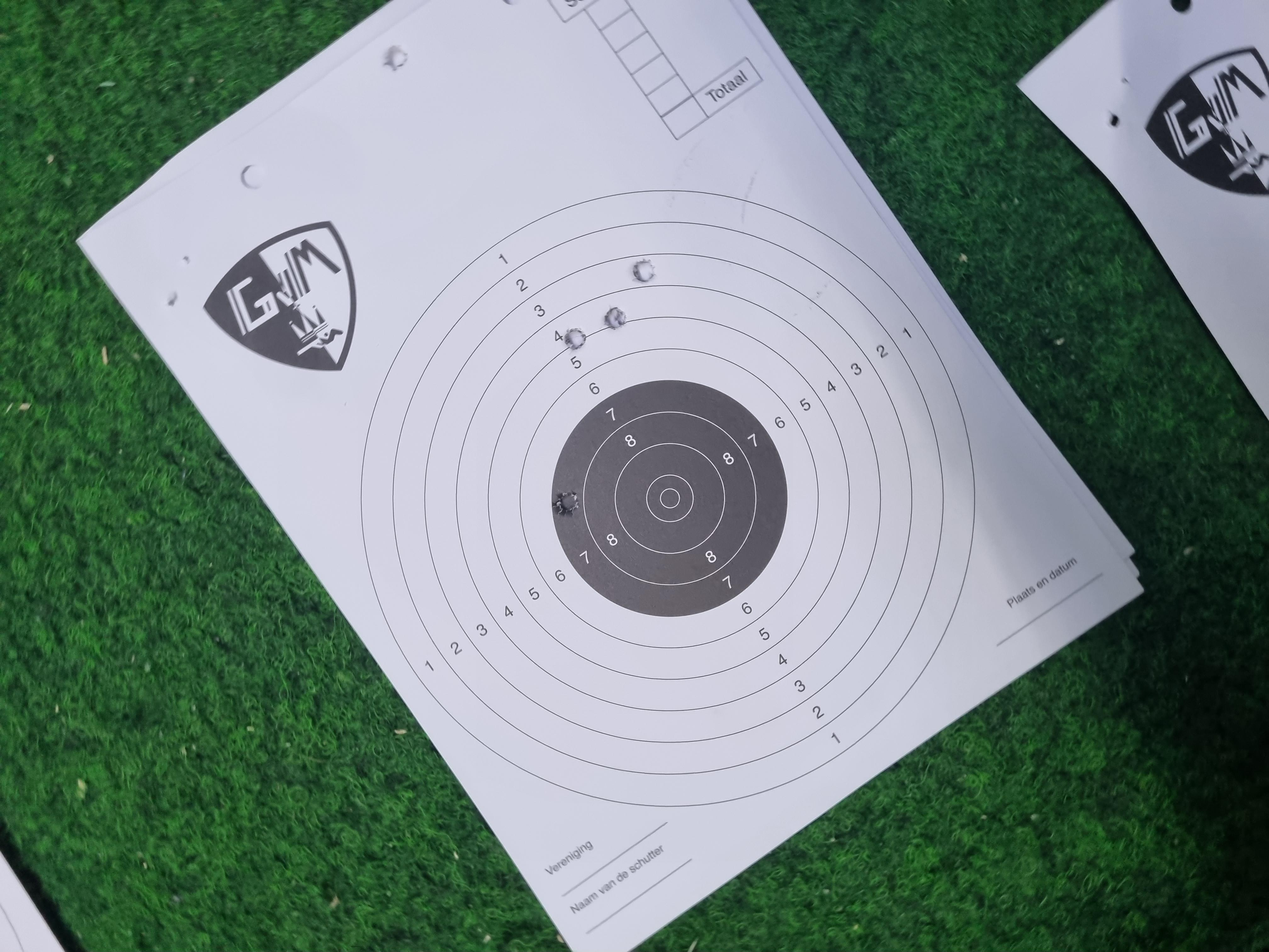hole: (1173, 288, 1209, 307), (581, 414, 614, 434), (892, 474, 923, 492), (829, 452, 859, 470), (802, 423, 830, 440)
